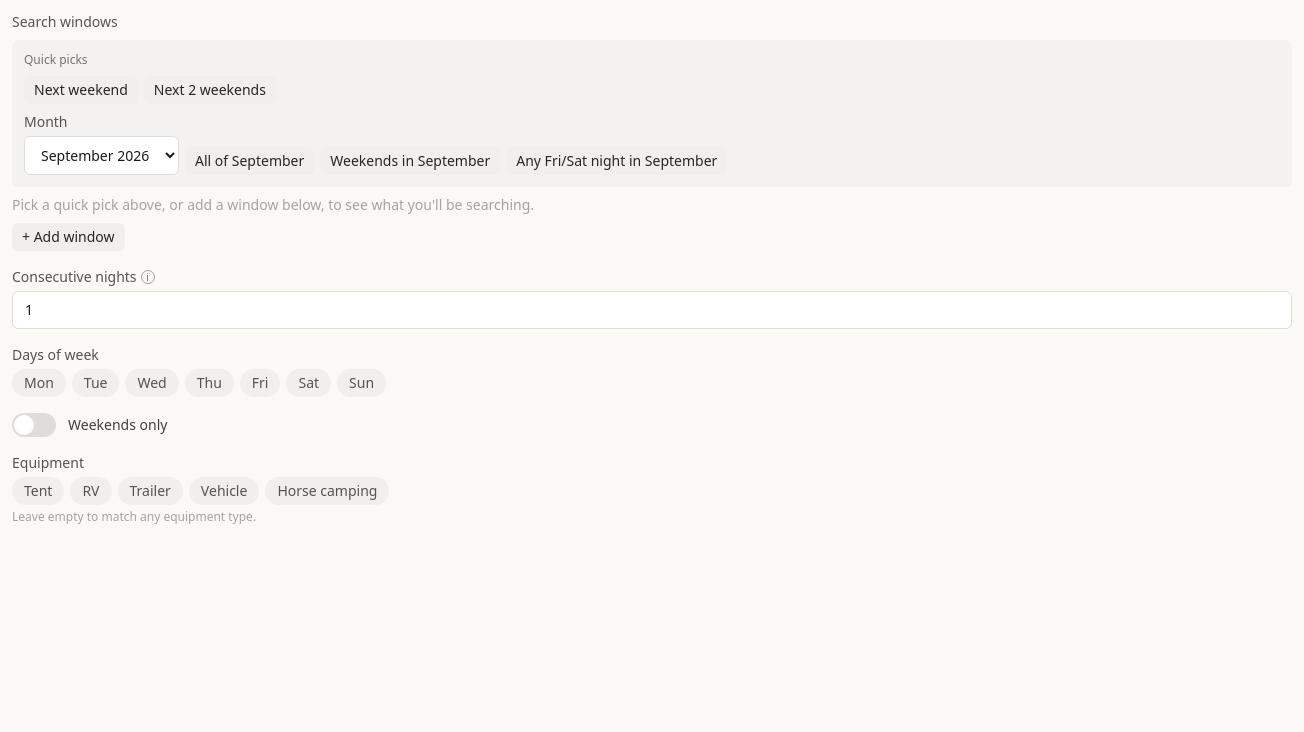
Test: DatesFiltersFields — search summary and window labels › keeps the summary in step when the nights preference is edited afterwards
Select "October 2026" in the dropdown labelled "Month" at x=102, y=156, box [24, 136, 179, 175]
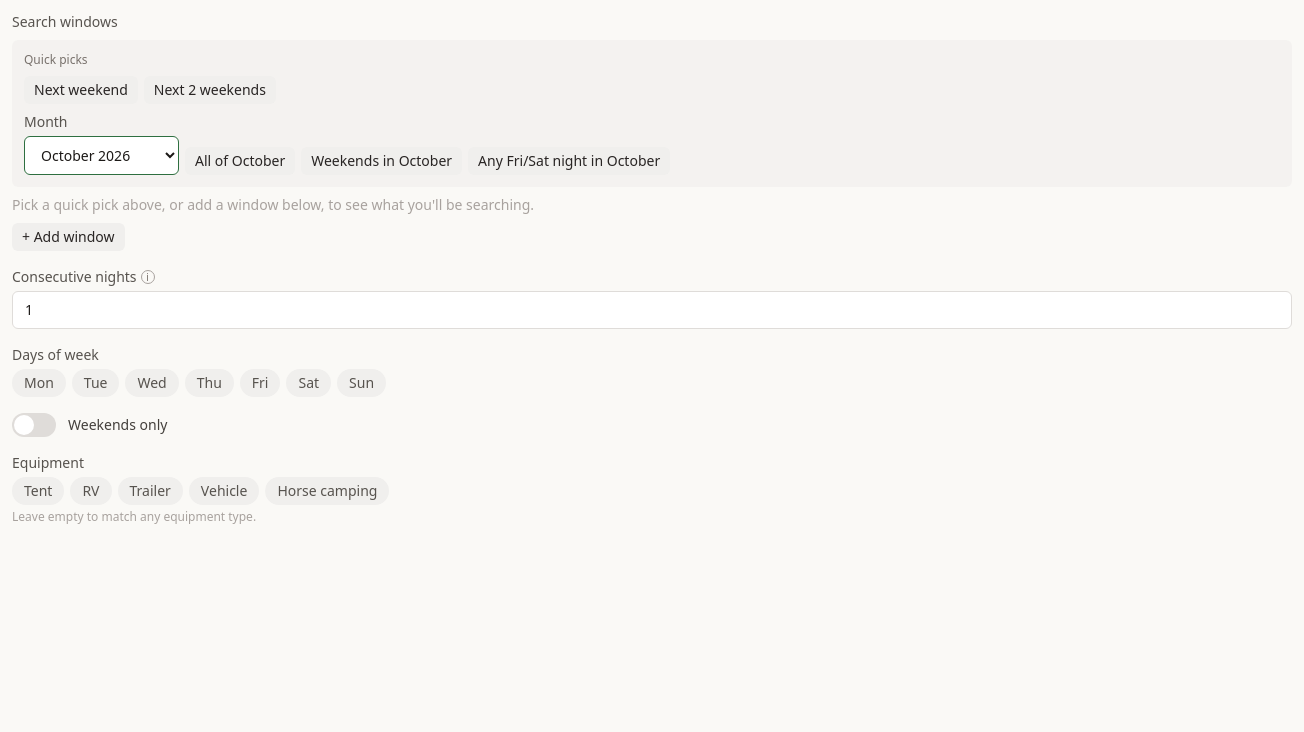
Click the button "All of October" at x=240, y=161, box [185, 147, 295, 175]
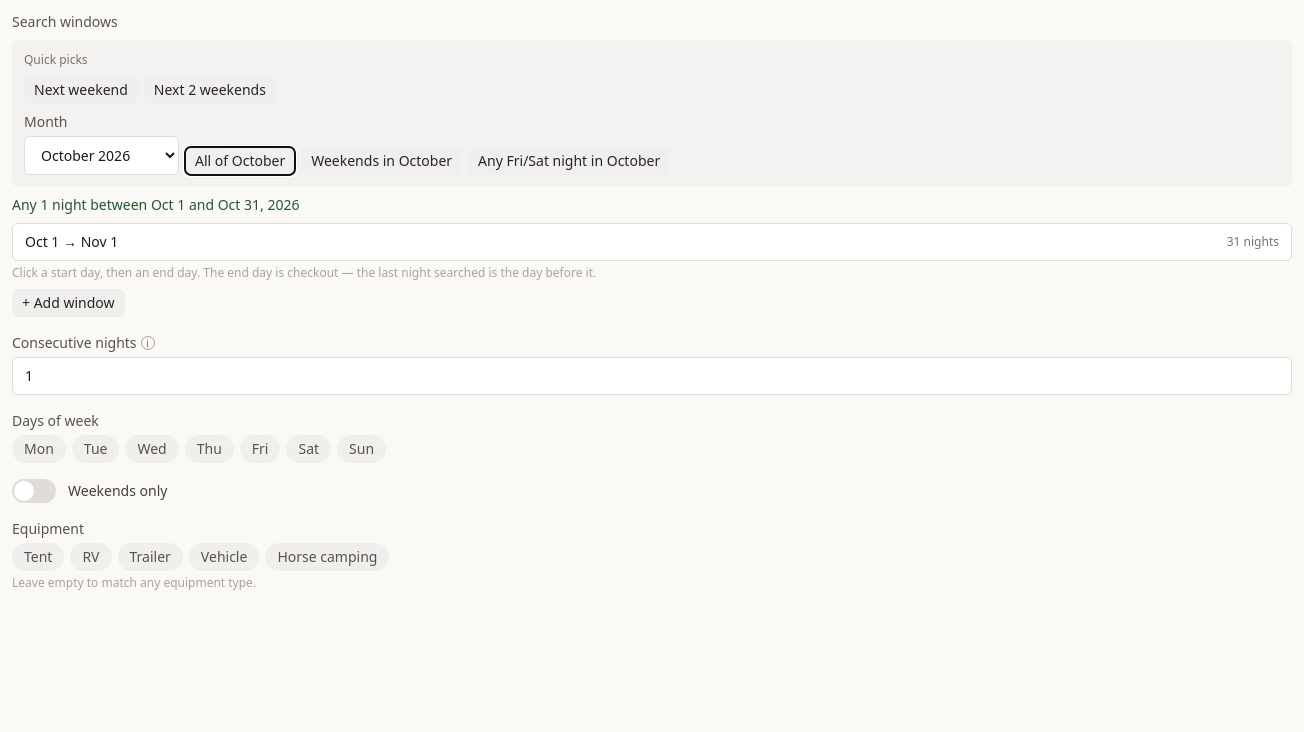
Replace the text in the number field labelled "Consecutive nights i" with "3" at x=652, y=376, box [12, 357, 1292, 395]
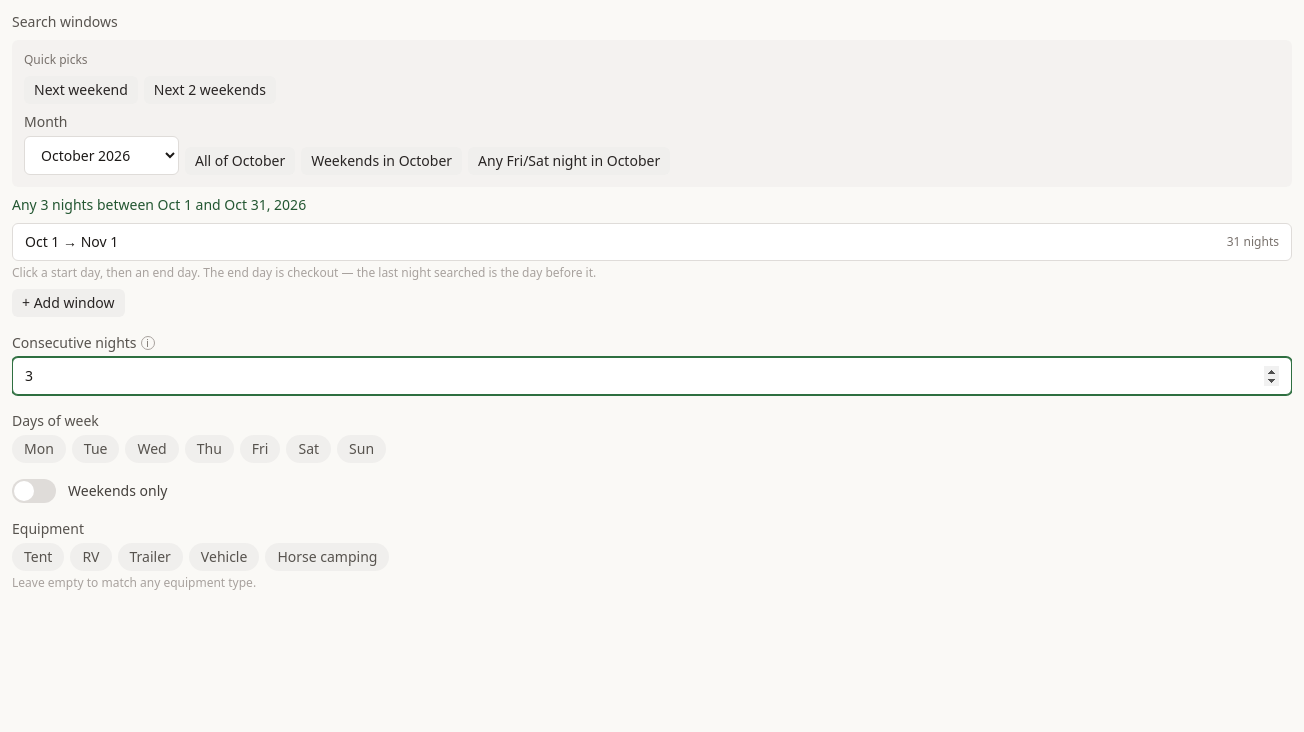
Now the text with test id "search-summary" reads "Any 3 nights between Oct 1 and Oct 31, 2026", box [12, 195, 306, 214]
